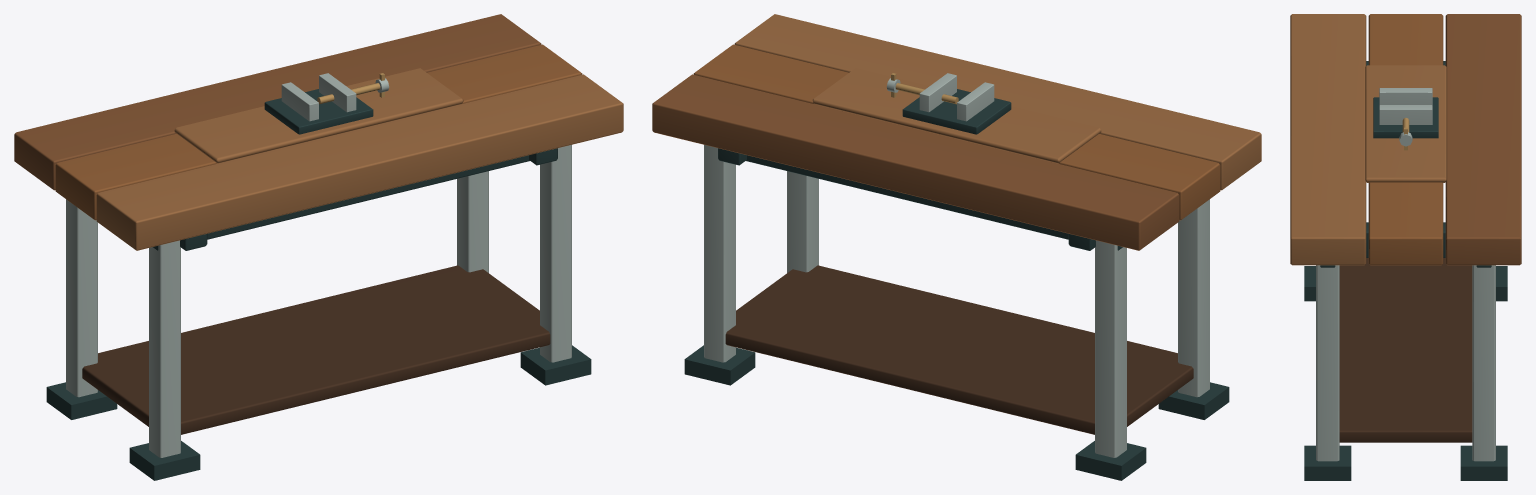
Rendered from bench-lod0.glb.
3 views of the same model, side by side, from view 1: azimuth 30°, elevation 25°; view 2: azimuth 150°, elevation 25°; view 3: azimuth 270°, elevation 25° (orthographic). The views are drawn at different scales.
Visible parts, largest first — view 1: SM_Workbench_V3_1_LOD0; view 2: SM_Workbench_V3_1_LOD0; view 3: SM_Workbench_V3_1_LOD0.
Part boxes in pixels (x1,y1,x2,y2): SM_Workbench_V3_1_LOD0: (14, 14, 623, 480); SM_Workbench_V3_1_LOD0: (652, 14, 1261, 480); SM_Workbench_V3_1_LOD0: (1290, 14, 1521, 480).
Bounding box in the file's own units: 1.7 × 0.995 × 0.74.
